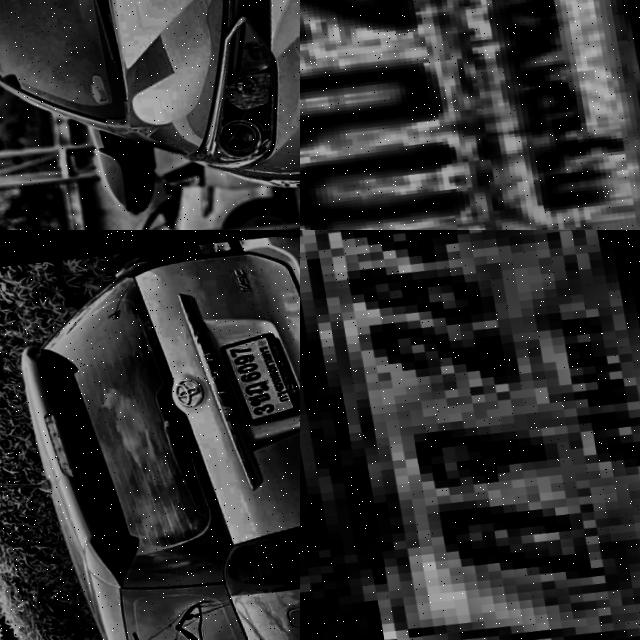license-plate: (300, 230, 640, 640), (300, 0, 640, 230), (214, 325, 300, 429)
